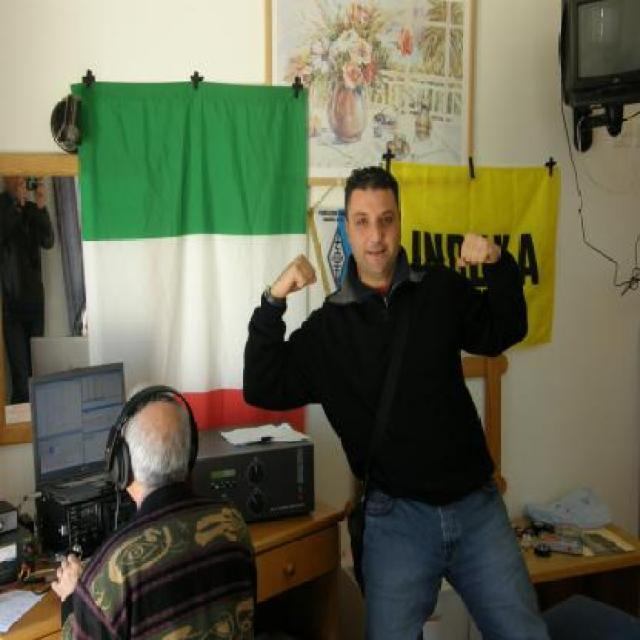earphone: (111, 390, 208, 488)
laptop_computer: (8, 324, 114, 516)
